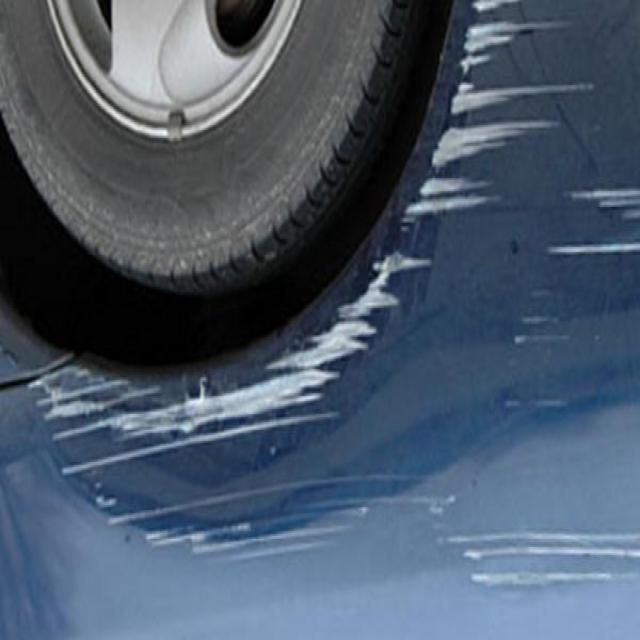scratch: (24, 288, 344, 480), (455, 1, 640, 272), (391, 476, 640, 613), (356, 98, 446, 390), (98, 482, 364, 577)
